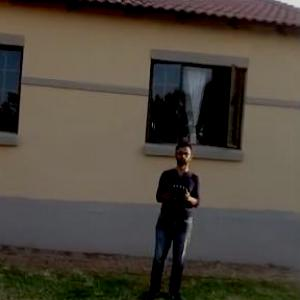follow: (146, 140, 205, 299)
